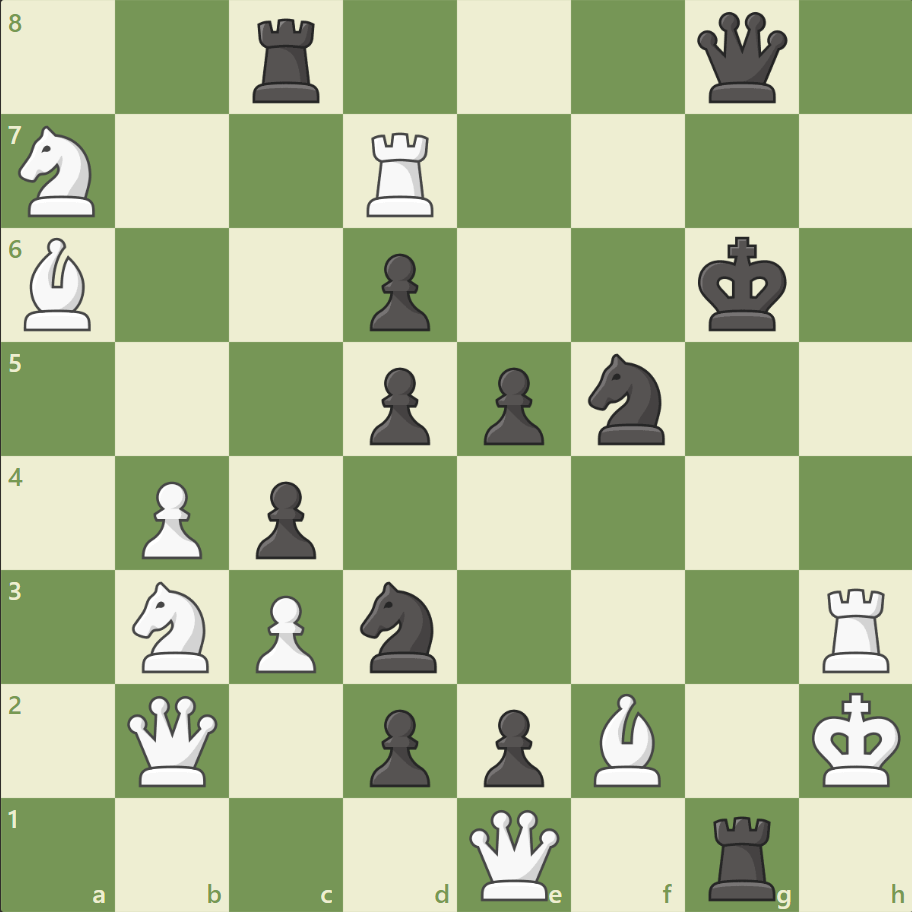B: (17, 233, 101, 336), (585, 687, 669, 790)
K: (806, 685, 906, 793)
N: (124, 575, 222, 677), (11, 121, 108, 223)
P: (133, 473, 208, 564), (247, 586, 322, 677)
Q: (124, 690, 223, 789), (464, 804, 563, 903)
R: (814, 579, 897, 676), (360, 125, 442, 222)
k: (692, 231, 792, 339)
n: (351, 575, 449, 677), (579, 348, 676, 450)
p: (474, 359, 549, 450), (247, 473, 322, 564), (474, 700, 549, 791), (361, 246, 435, 337), (361, 359, 435, 450), (361, 700, 435, 791)
q: (691, 9, 790, 108)
r: (700, 806, 783, 904), (246, 12, 329, 109)
